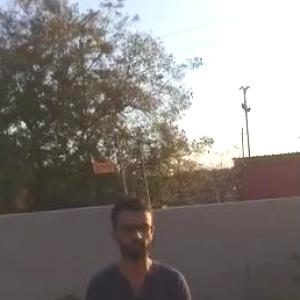follow: (77, 184, 213, 299)
